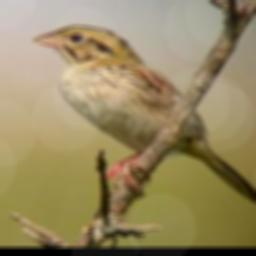Sparrow: (31, 24, 256, 208)
